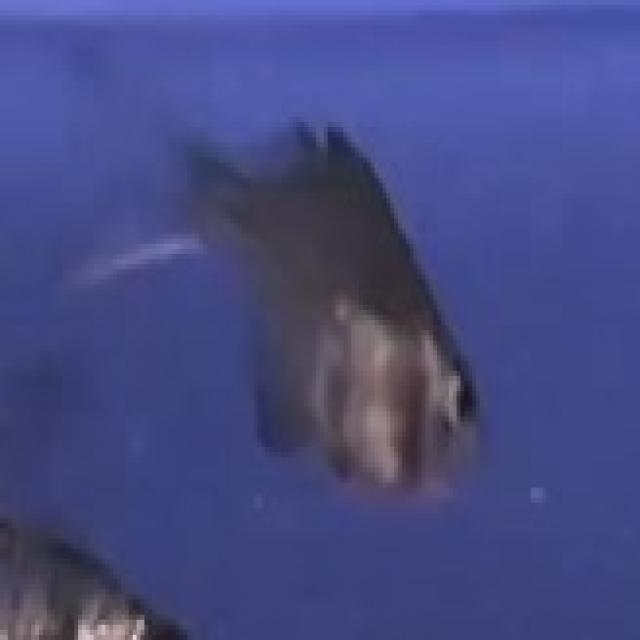Glass-Perchlet: (67, 54, 526, 528)
